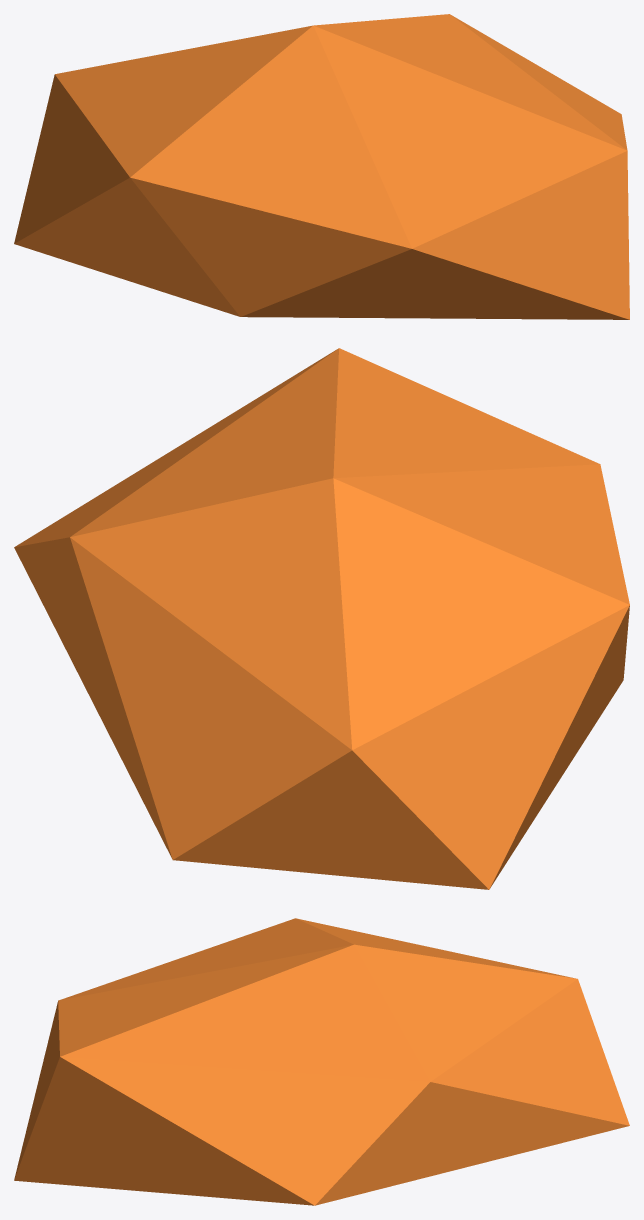
Rendered from Pebble4.fbx.
The picture shows the model from 3 angles, top to bottom: view 1: azimuth 30°, elevation 25°; view 2: azimuth 150°, elevation 25°; view 3: azimuth 270°, elevation 25°; orthographic projection. The views are drawn at different scales.
Visible parts, largest first — view 1: Pebble4; view 2: Pebble4; view 3: Pebble4.
Part boxes in pixels (x1,y1,x2,y2): Pebble4: [14, 14, 629, 319]; Pebble4: [14, 348, 629, 889]; Pebble4: [14, 918, 629, 1205].
Bounding box in the file's own units: 58.98 × 27.55 × 67.98.
